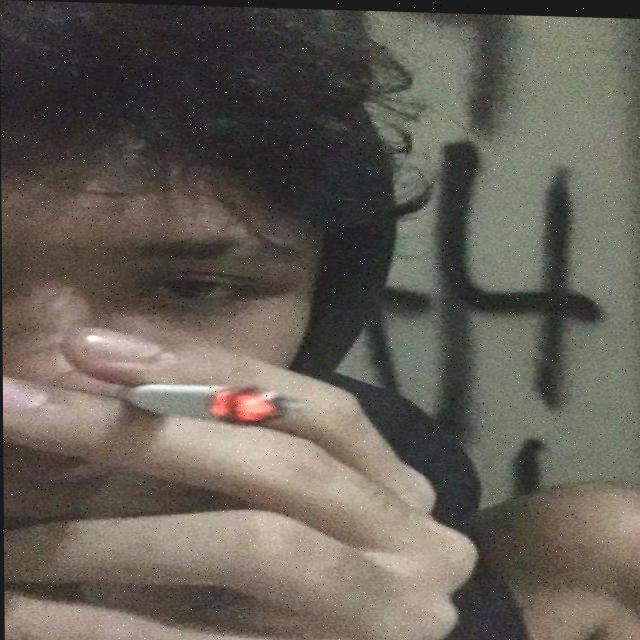cigarette: (123, 381, 292, 429)
